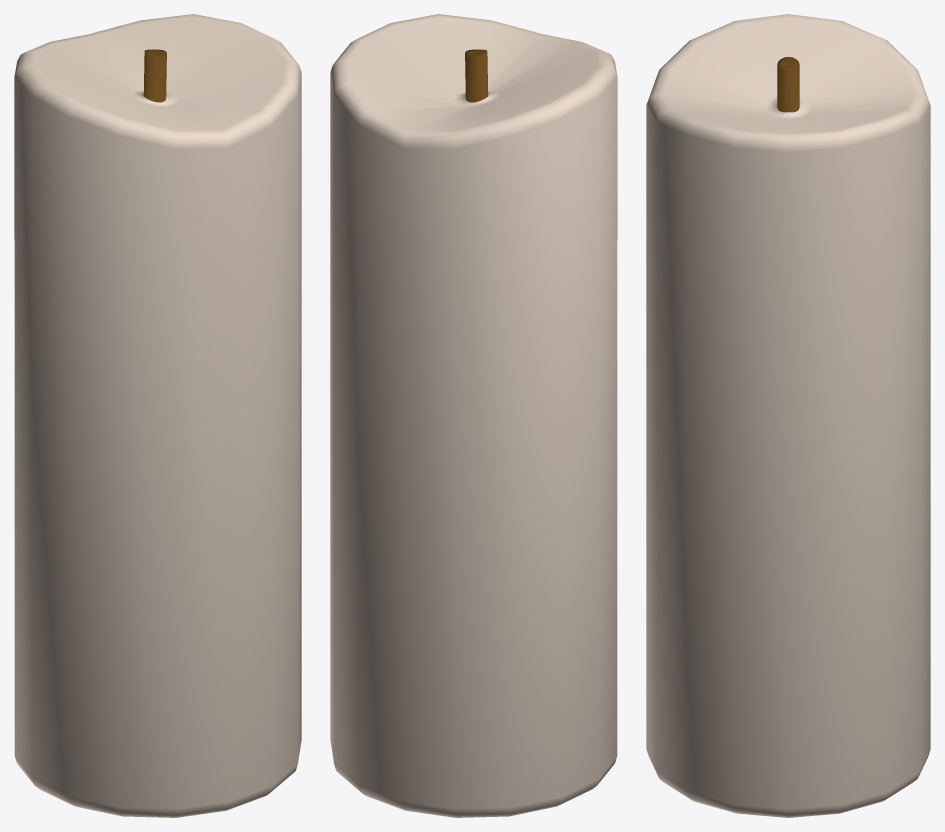
Rendered from Candle.fbx.
3 renders of one model, left to right at view 1: azimuth 30°, elevation 25°; view 2: azimuth 150°, elevation 25°; view 3: azimuth 270°, elevation 25°, orthographic.
Visible parts, largest first — view 1: Candle_5; view 2: Candle_5; view 3: Candle_5.
Part boxes in pixels (<box>): Candle_5: <box>14,14,301,817</box>; Candle_5: <box>330,14,617,817</box>; Candle_5: <box>646,14,930,817</box>.
Size of the model in its own units: 17.12 by 46.53 by 17.12.
